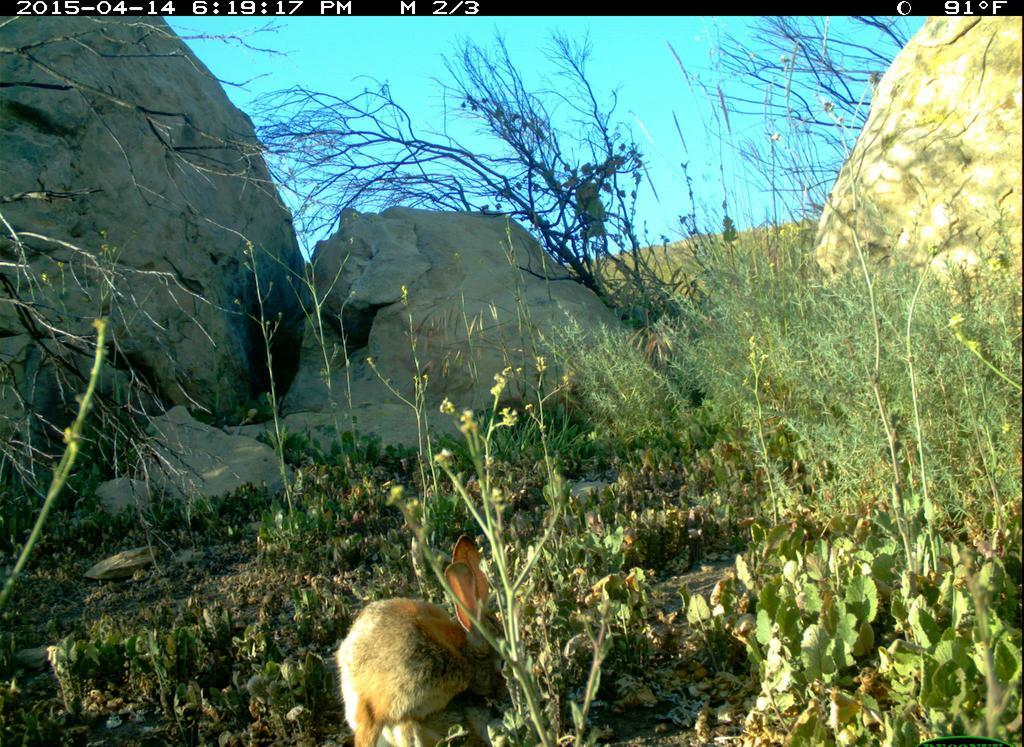rabbit: (314, 530, 553, 747)
